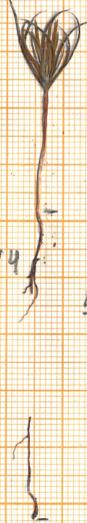flower: (2, 1, 85, 91)
root: (13, 213, 48, 327)
stem: (31, 93, 53, 215)
